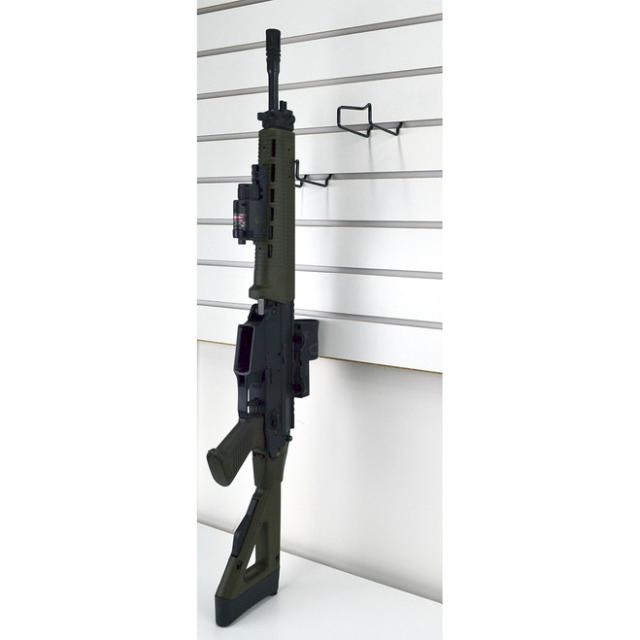Rifle: (206, 29, 319, 630)
